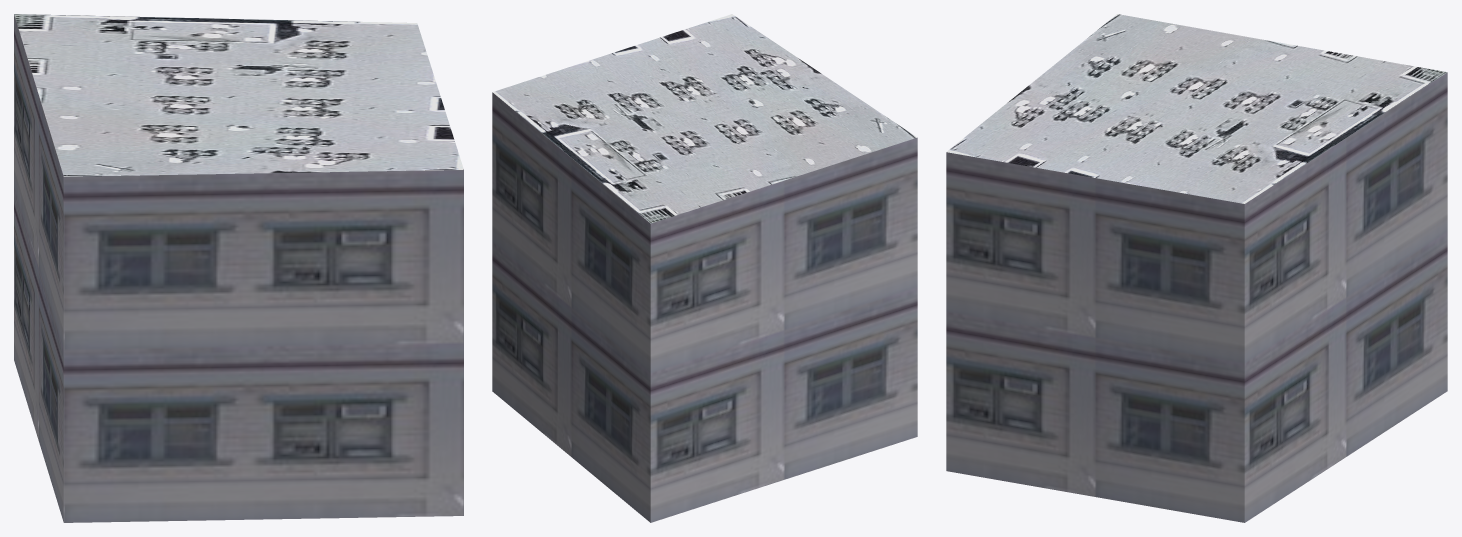
File: ResTex__709.fbx
3 renders of one model, left to right at view 1: azimuth 30°, elevation 25°; view 2: azimuth 150°, elevation 25°; view 3: azimuth 270°, elevation 25°, orthographic. The views are drawn at different scales.
Parts seen in each view (by area): view 1: CityEngineMaterial_1_m, CityEngineMaterial_m; view 2: CityEngineMaterial_1_m, CityEngineMaterial_m; view 3: CityEngineMaterial_1_m, CityEngineMaterial_m.
Part boxes in pixels (x1=…): CityEngineMaterial_1_m: x1=14, y1=14, x2=463, y2=522; CityEngineMaterial_m: x1=14, y1=14, x2=463, y2=176; CityEngineMaterial_1_m: x1=492, y1=92, x2=917, y2=522; CityEngineMaterial_m: x1=492, y1=14, x2=916, y2=223; CityEngineMaterial_1_m: x1=946, y1=72, x2=1447, y2=522; CityEngineMaterial_m: x1=946, y1=14, x2=1447, y2=203.
Size of the model in its own units: 7.67 by 6 by 8.55.
2 materials, 2 textured.
